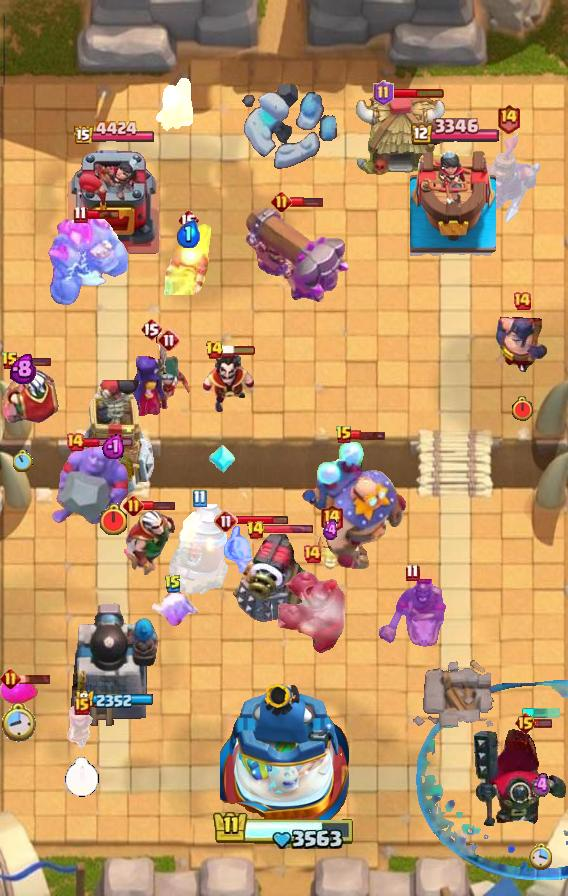archer-queen: (48, 443, 130, 527)
axe: (128, 330, 174, 418)
bat: (221, 525, 263, 577)
bowler: (162, 223, 214, 295)
cannon: (65, 705, 99, 751)
cannoneer-tower: (47, 213, 131, 305)
clock: (212, 810, 356, 852)
electro-spirit: (10, 352, 36, 383), (176, 220, 200, 248), (102, 433, 124, 459), (532, 772, 550, 799), (323, 519, 339, 541)
elixir: (0, 703, 36, 743), (65, 757, 99, 797), (99, 503, 129, 537), (529, 843, 553, 871), (510, 396, 533, 422), (13, 450, 33, 472)
elixir-golem-big: (474, 132, 542, 226)
emote: (391, 87, 444, 99), (236, 514, 289, 525), (262, 525, 314, 536), (83, 437, 134, 448), (15, 673, 52, 685), (85, 208, 121, 220), (221, 344, 257, 356), (351, 429, 387, 441), (289, 196, 322, 208), (140, 500, 176, 511), (16, 357, 51, 368), (535, 719, 554, 730)
freeze: (376, 579, 448, 647)
furnace: (242, 203, 352, 305)
golem: (230, 534, 312, 624)
ice-spirit: (521, 708, 561, 718)
ice-spirit-evolution: (316, 532, 346, 570)
inferno-tower: (470, 727, 568, 831)
king-tower: (219, 678, 349, 826)
little-prince: (300, 439, 408, 573)
lumberjack: (201, 352, 257, 416)
magic-archer: (169, 503, 229, 595)
miner: (0, 677, 40, 705)
mirror: (148, 590, 198, 628)
monk: (494, 303, 550, 375)
pad_0: (414, 678, 568, 880)
pad_2: (208, 443, 236, 475)
prince: (352, 91, 446, 181)
queen-tower: (64, 146, 164, 256), (410, 144, 496, 255)
royal-guardian: (273, 569, 351, 655)
selected: (409, 117, 500, 146), (72, 121, 155, 148), (74, 690, 154, 710)
skeleton-king: (115, 509, 179, 577), (0, 362, 60, 428)
tesla: (147, 354, 191, 414)
text: (495, 102, 520, 133), (320, 503, 344, 533), (157, 328, 181, 352), (214, 509, 238, 533), (514, 711, 537, 735), (373, 80, 394, 106), (177, 208, 199, 232), (140, 317, 162, 341), (123, 495, 144, 517), (272, 191, 293, 212), (0, 667, 20, 688), (512, 291, 532, 311), (65, 432, 85, 452), (302, 544, 322, 564), (205, 340, 224, 360), (246, 520, 265, 540), (1, 351, 19, 371), (335, 425, 353, 445), (164, 574, 182, 594), (74, 697, 90, 715), (193, 489, 208, 508), (73, 204, 87, 223), (405, 563, 419, 581)
tombstone: (153, 75, 195, 133)
tower-bar: (69, 599, 159, 731)
zappy: (71, 376, 156, 498)
